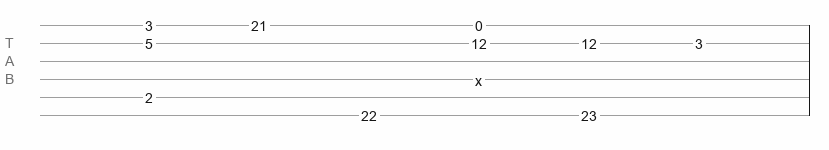0: (475, 18, 483, 28)
12: (471, 36, 487, 46), (581, 36, 597, 46)
2: (145, 90, 153, 100)
21: (251, 18, 267, 28)
22: (361, 108, 377, 118)
23: (581, 108, 597, 118)
3: (145, 18, 153, 28), (695, 36, 703, 46)
5: (145, 36, 153, 46)
x: (475, 73, 482, 81)
